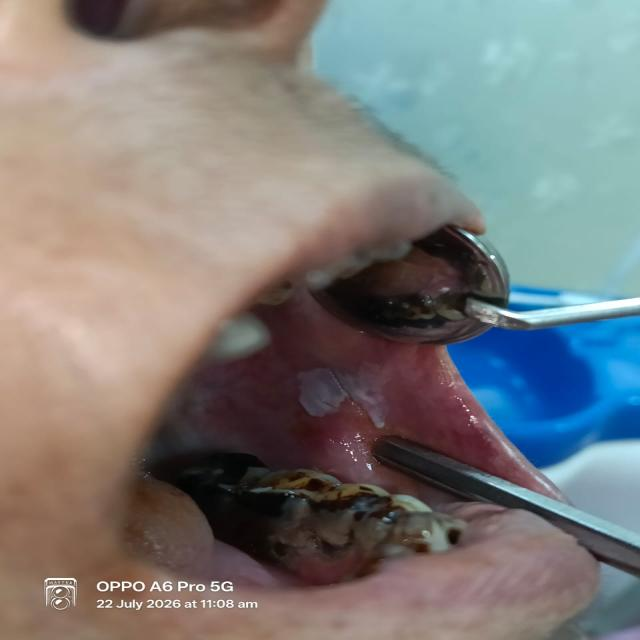leukoplakia-detection: (288, 352, 404, 434)
processing_area: (241, 334, 521, 496)
